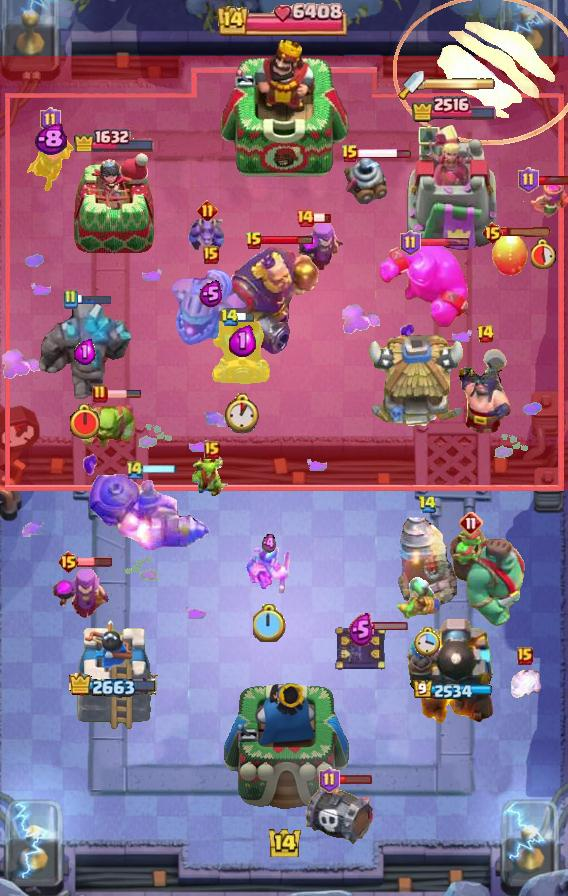bar: (406, 122, 500, 256)
cannon: (520, 180, 568, 224)
cannoneer-tower: (36, 301, 134, 403)
clock: (217, 2, 351, 36)
clone: (377, 240, 469, 330)
electro-spirit: (33, 124, 67, 156), (228, 325, 255, 357), (348, 614, 374, 646), (199, 280, 223, 308), (74, 338, 96, 365), (262, 533, 276, 555)
elixir: (222, 394, 261, 435), (68, 403, 102, 441), (253, 604, 287, 642), (414, 627, 441, 658), (531, 238, 557, 269)
emote: (356, 147, 411, 161), (261, 234, 314, 245), (501, 227, 553, 238), (418, 236, 470, 247), (358, 621, 409, 632), (77, 556, 113, 568), (76, 294, 112, 305), (142, 465, 178, 476), (337, 775, 373, 786), (106, 389, 142, 399), (536, 175, 568, 186), (312, 212, 332, 224), (237, 313, 256, 324)
flying-machine: (80, 398, 142, 452)
giant-snowball: (245, 545, 293, 597), (394, 576, 444, 620)
goblin-drill: (342, 150, 388, 204)
hog: (490, 233, 530, 277)
ice-spirit-evolution: (507, 667, 543, 703)
ice-spirit-evolution-symbol: (334, 623, 388, 673)
ice-wizard: (392, 0, 567, 144)
king-tower: (219, 678, 349, 826), (218, 37, 350, 181)
king-tower-bar: (424, 77, 496, 91)
lava-hound: (446, 523, 530, 629)
lightning: (210, 243, 322, 355)
magic-archer: (397, 516, 457, 608)
monk: (456, 348, 514, 434)
musketeer: (212, 320, 272, 384)
night-witch: (170, 268, 252, 346)
prince: (366, 335, 468, 431)
queen-tower: (70, 616, 158, 731), (71, 152, 157, 256)
rascal-girl: (50, 567, 112, 625), (292, 218, 348, 280), (24, 127, 76, 191)
royal-delivery: (187, 211, 227, 255)
royal-recruit-evolution: (303, 784, 377, 848)
selected: (411, 94, 498, 123), (69, 672, 159, 700), (72, 126, 155, 152), (413, 679, 493, 700)
text: (459, 511, 483, 535), (399, 230, 421, 256), (480, 221, 503, 245), (56, 550, 79, 574), (39, 107, 60, 133), (517, 167, 538, 193), (320, 767, 341, 793), (197, 199, 218, 221), (125, 460, 145, 481), (295, 208, 315, 228), (477, 324, 496, 344), (221, 309, 240, 328), (341, 144, 359, 164), (245, 231, 263, 251), (418, 495, 438, 513), (62, 289, 78, 309), (92, 384, 108, 404), (203, 246, 219, 264), (204, 441, 220, 459), (517, 647, 533, 665)
tower-bar: (406, 611, 500, 731)
wizard: (87, 473, 211, 551)
zap: (192, 456, 232, 498)
